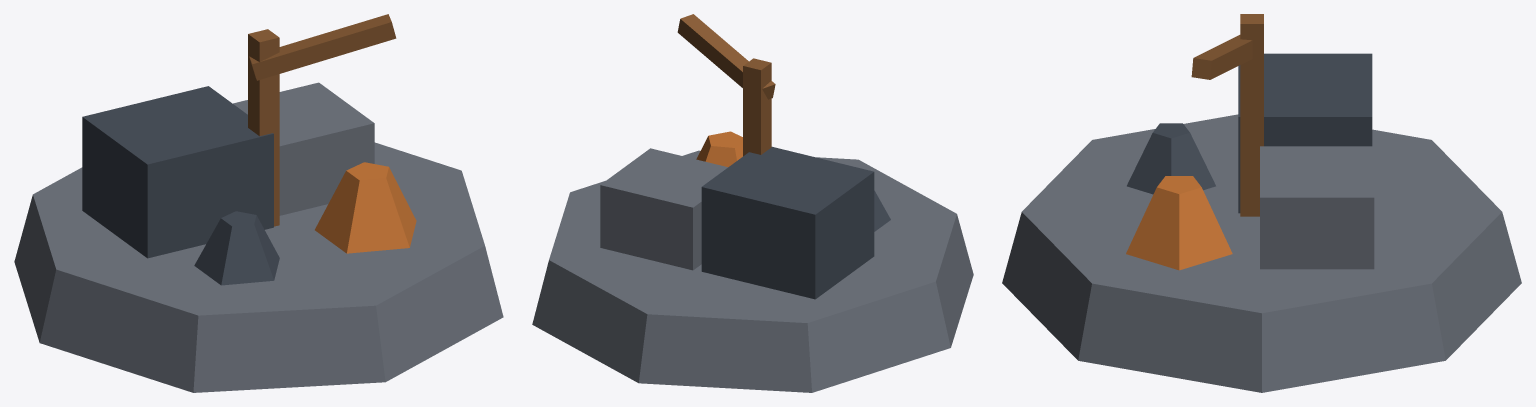
The model's file is ore_pit.glb.
3 views of the same model, side by side, from view 1: azimuth 30°, elevation 25°; view 2: azimuth 150°, elevation 25°; view 3: azimuth 270°, elevation 25° (orthographic). The views are drawn at different scales.
Parts seen in each view (by area): view 1: ore_pit; view 2: ore_pit; view 3: ore_pit.
Boxes of the visible parts, left/top/right/bottom form: ore_pit: left=14, top=14, right=503, bottom=392; ore_pit: left=532, top=14, right=973, bottom=392; ore_pit: left=1002, top=14, right=1521, bottom=392.
Bounding box in the file's own units: 2.64 × 1.54 × 2.64.
